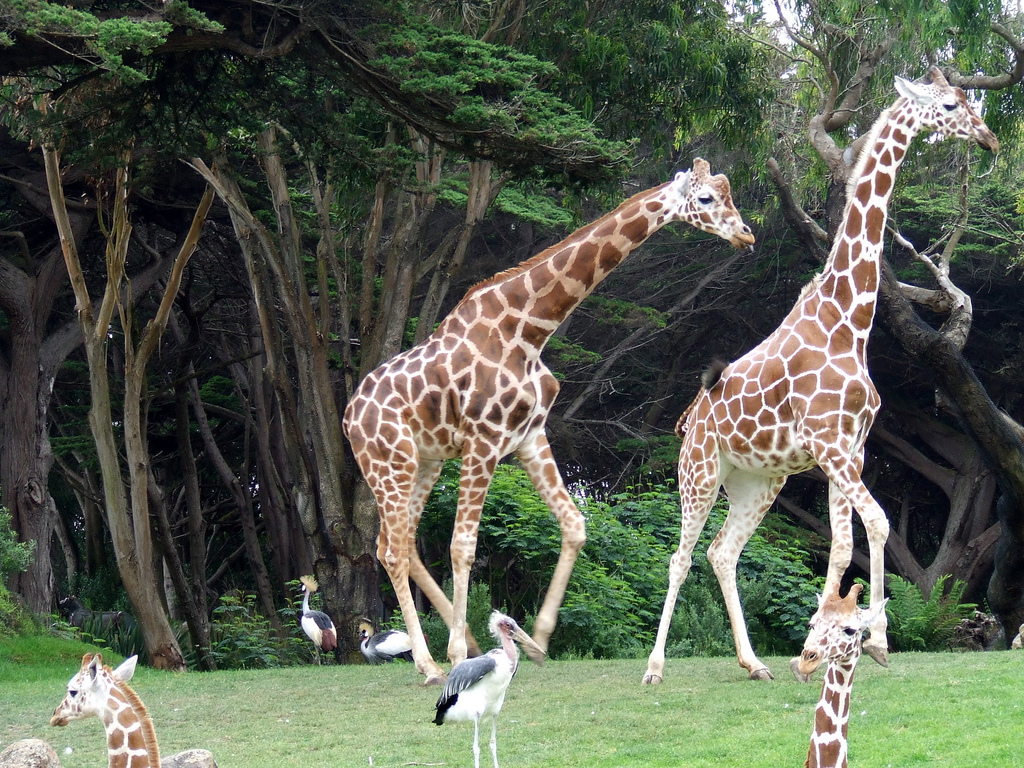giraffe: (360, 140, 755, 735), (668, 64, 1002, 636), (25, 618, 211, 765)
